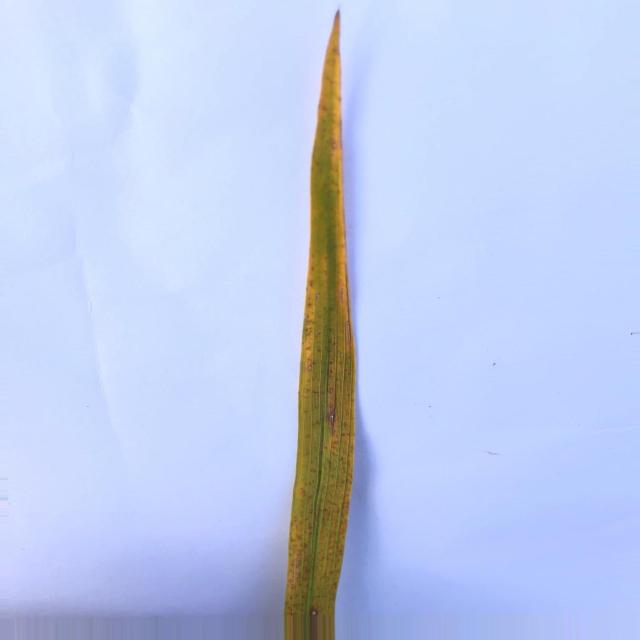Rice Tungro: (317, 208, 356, 456), (314, 10, 340, 146)
